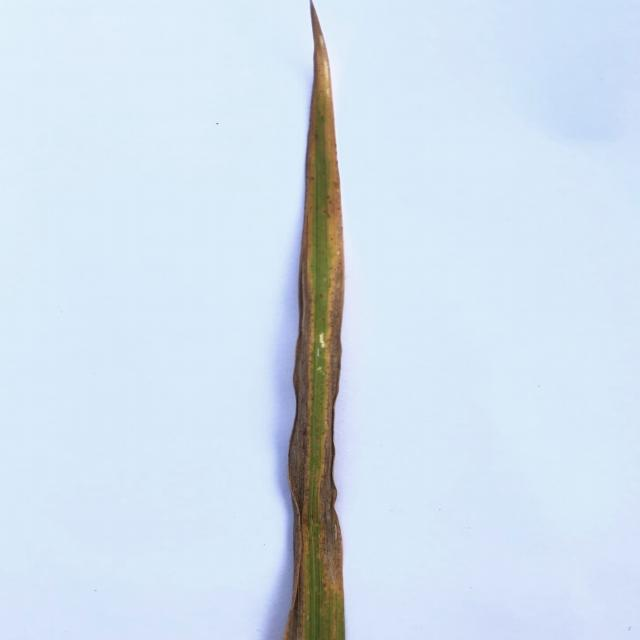tungro: (321, 1, 347, 638), (286, 103, 316, 638)
